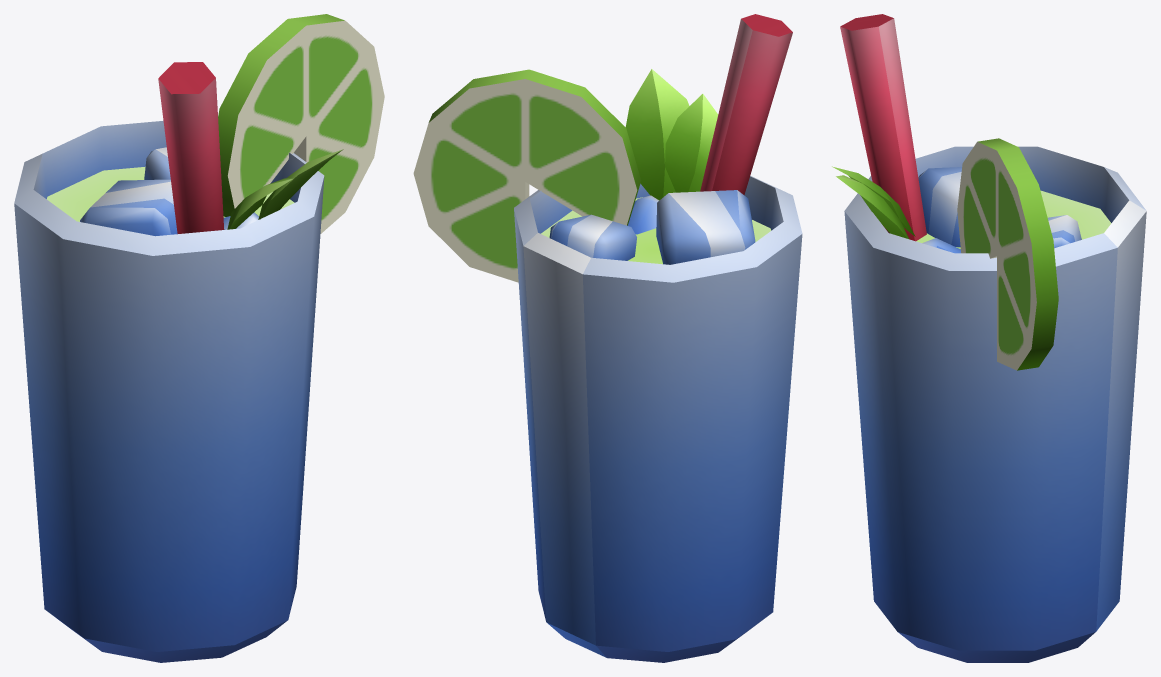
The model's file is m_Mojito01.fbx.
3 renders of one model, left to right at view 1: azimuth 30°, elevation 25°; view 2: azimuth 150°, elevation 25°; view 3: azimuth 270°, elevation 25°, orthographic. The views are drawn at different scales.
Visible parts, largest first — view 1: m_Mojito01; view 2: m_Mojito01; view 3: m_Mojito01.
Boxes of the visible parts, box(x1,y1,x2,y2) form: m_Mojito01: box(14, 14, 384, 662); m_Mojito01: box(413, 14, 802, 662); m_Mojito01: box(832, 14, 1146, 662).
Size of the model in its own units: 17.38 by 27.58 by 13.55.
